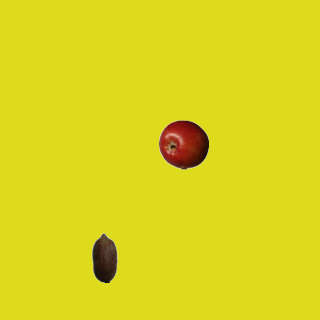Apple Braeburn: (158, 119, 208, 169)
Nut Pecan: (79, 232, 129, 282)
